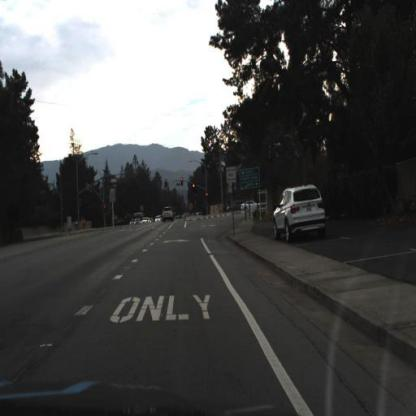car: (271, 183, 328, 242), (241, 200, 262, 212), (162, 206, 175, 224), (229, 201, 245, 215)
